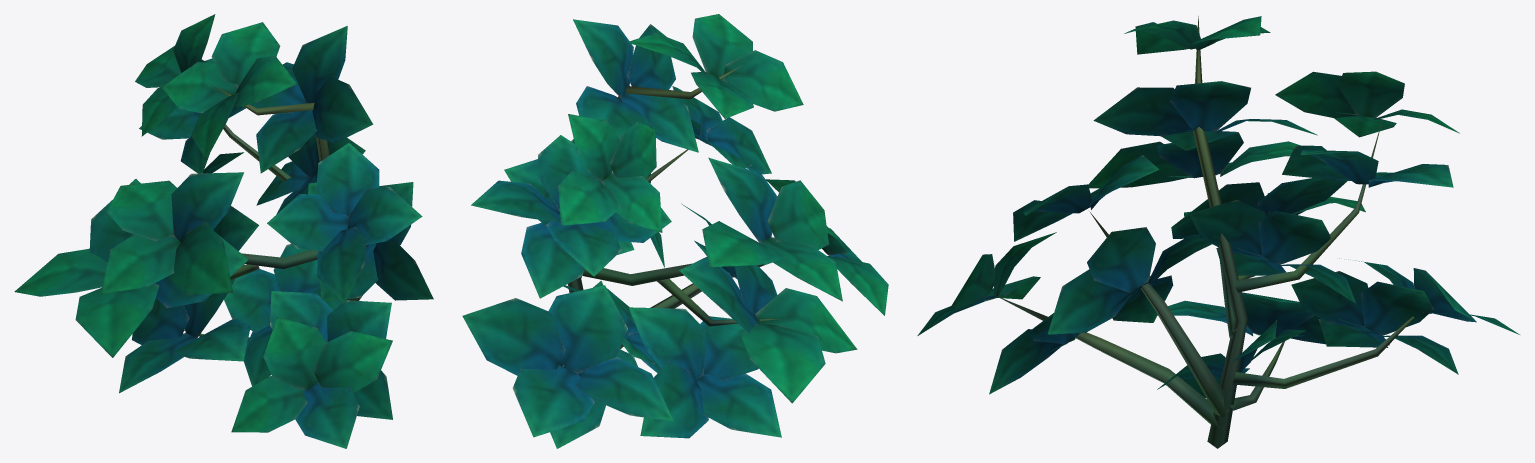
The model's file is scenes_village_plant01a.FBX.
3 views of the same model, side by side, from view 1: azimuth 30°, elevation 25°; view 2: azimuth 150°, elevation 25°; view 3: azimuth 270°, elevation 25° (orthographic). The views are drawn at different scales.
Parts seen in each view (by area): view 1: Oscenes_village_plant01a; view 2: Oscenes_village_plant01a; view 3: Oscenes_village_plant01a.
Boxes of the visible parts, x1,y1,x2,y2 form: Oscenes_village_plant01a: (14,14,433,448); Oscenes_village_plant01a: (462,14,888,448); Oscenes_village_plant01a: (917,16,1519,448).
Size of the model in its own units: 83.63 by 93.7 by 132.
